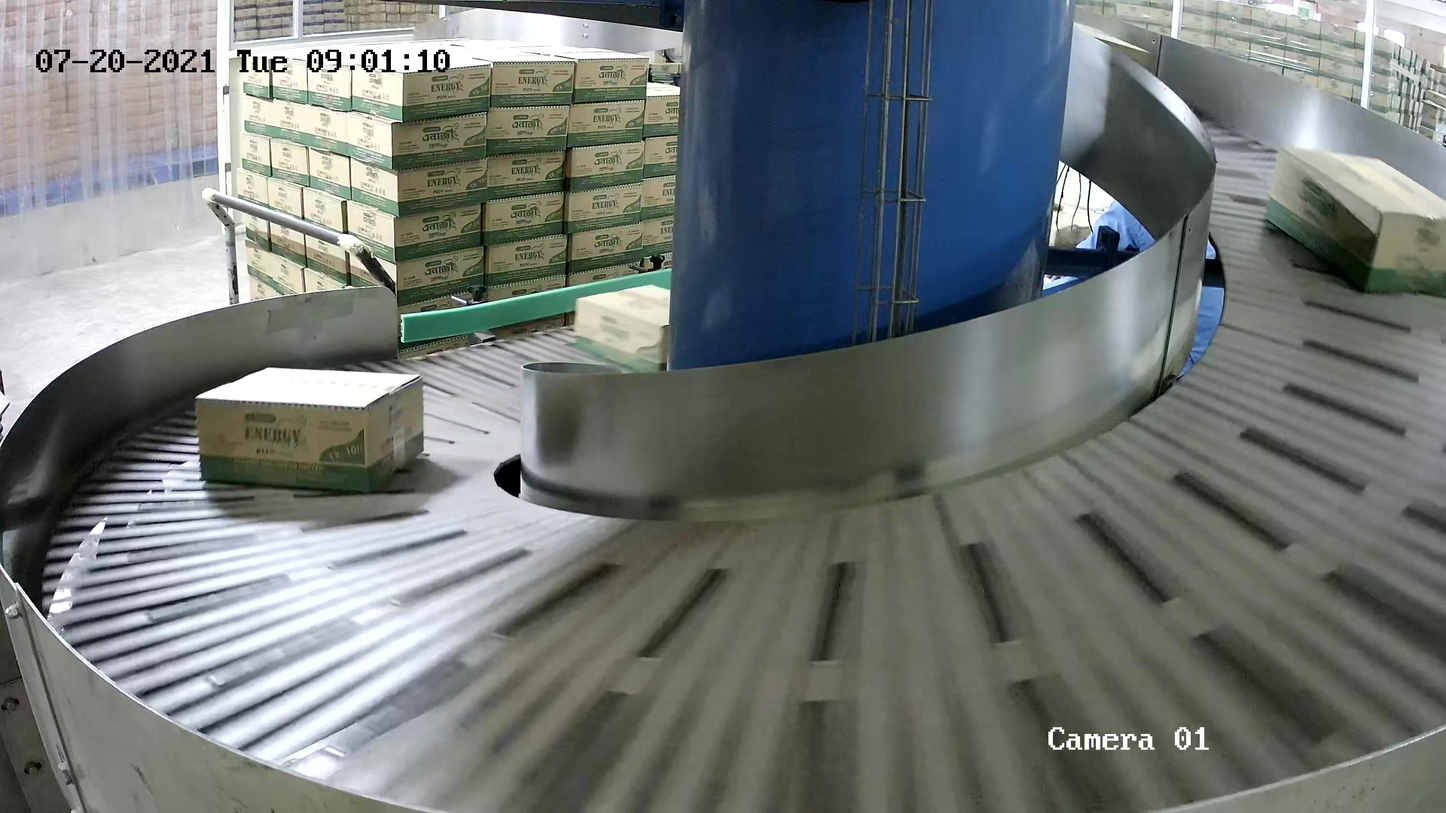Box: (193, 364, 426, 496), (1262, 142, 1446, 298), (572, 282, 671, 373)
